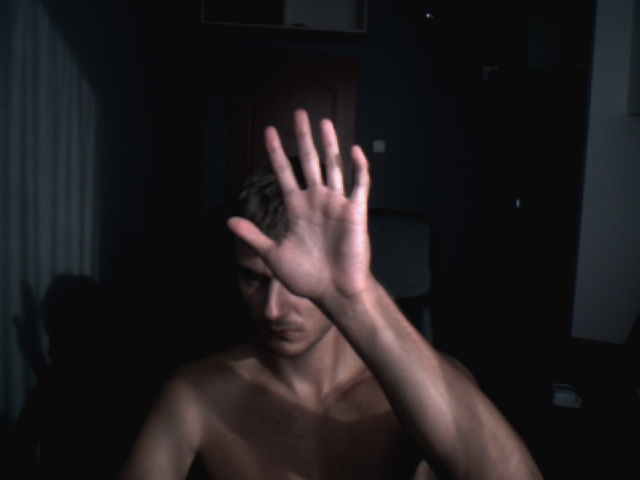open: (227, 110, 371, 288)
